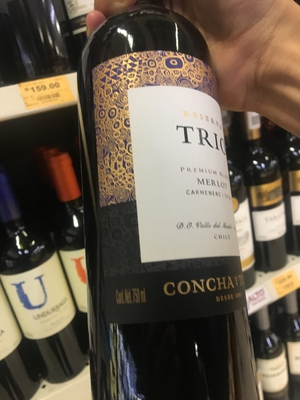trio merlot: (87, 35, 262, 400)
